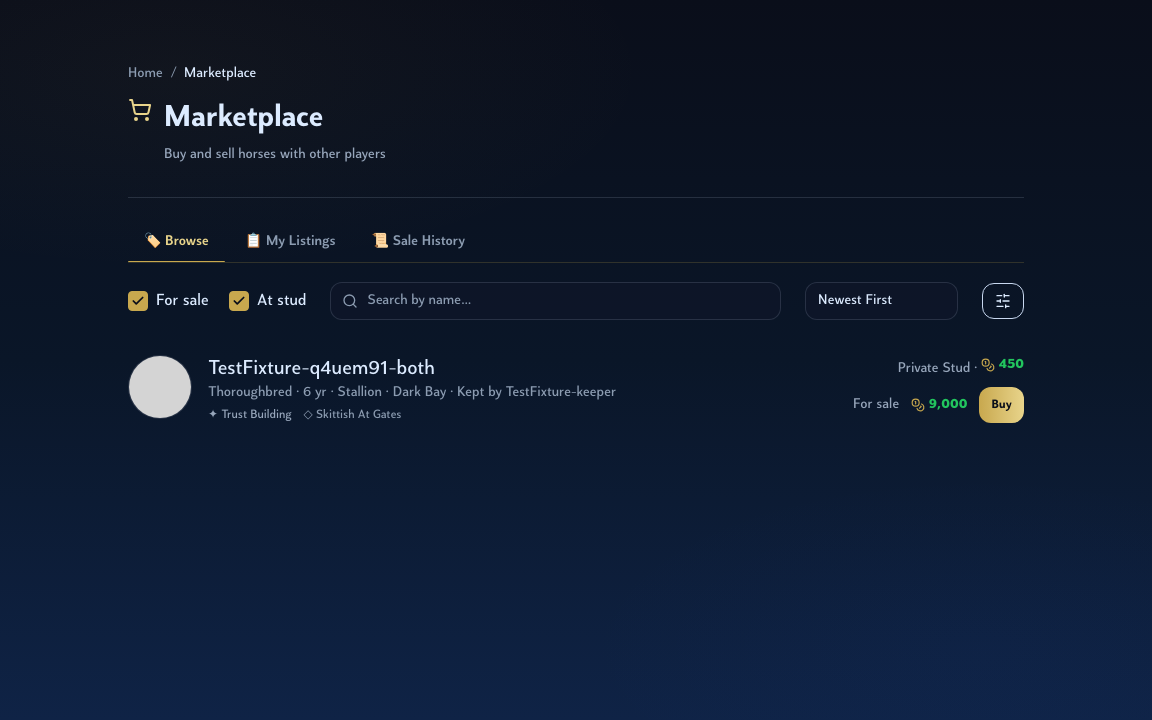
it: Marketplace all-horses search (Equoria-q4uem.9.1) › Buy on a horse for sale opens the purchase dialog
The width and height of the screenshot is (1152, 720).
Click the button with aria-label "buy testfixture-q4uem91-both" at (1002, 405), box [979,387,1024,423]
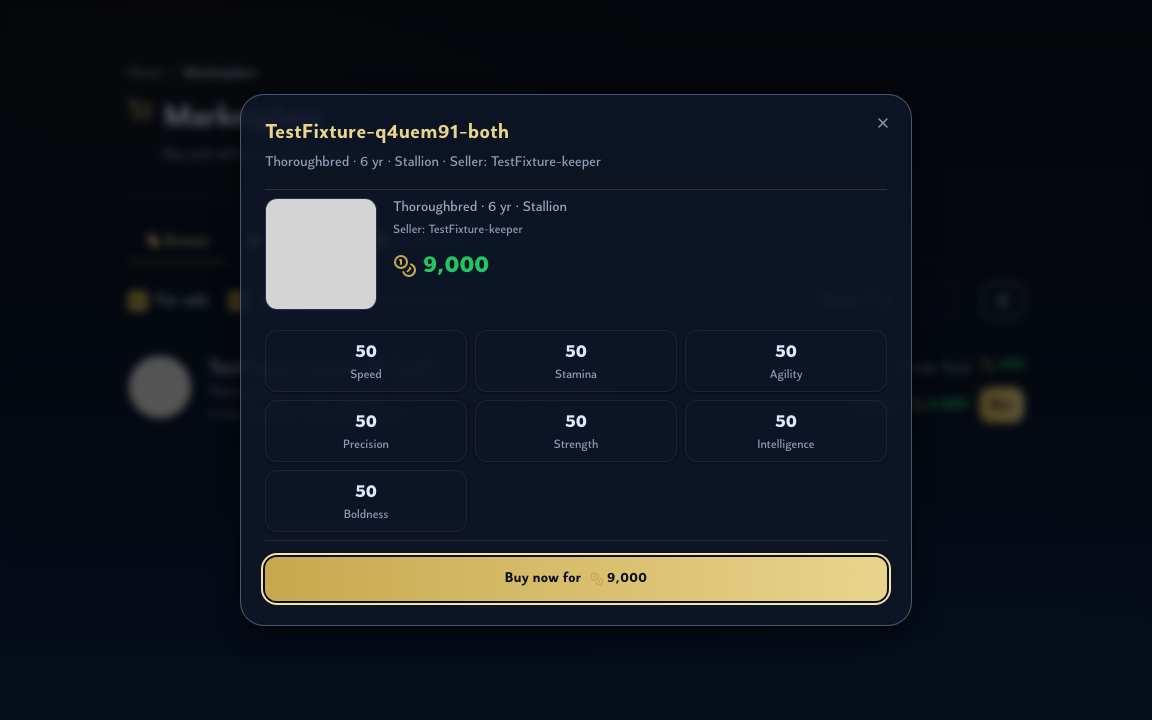
Expected: the button "Buy now for 9,000" is shown, [265,557,887,601]
